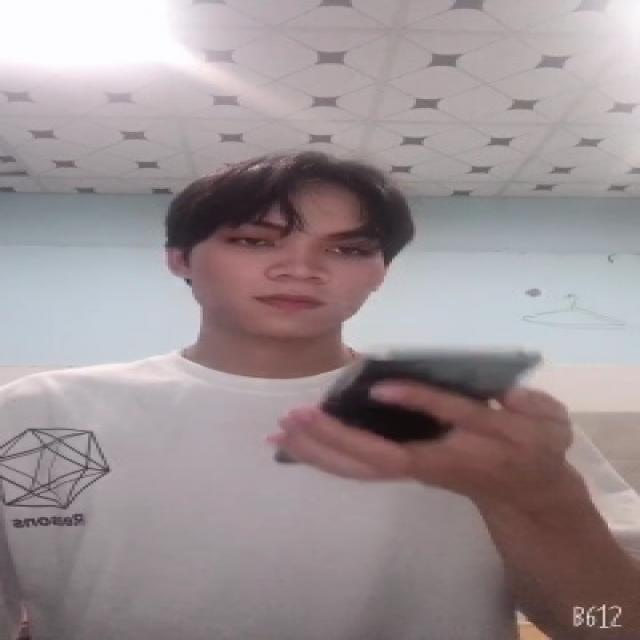Phone: (320, 344, 547, 444)
